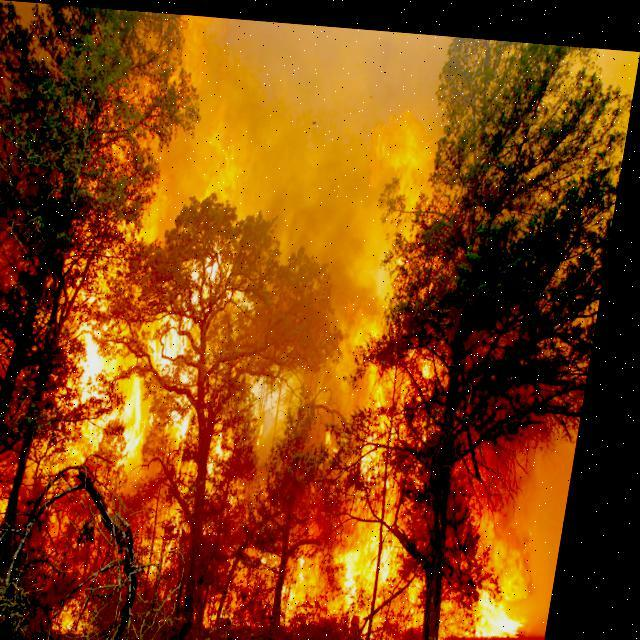Fire: (324, 95, 603, 639), (40, 8, 292, 540)
